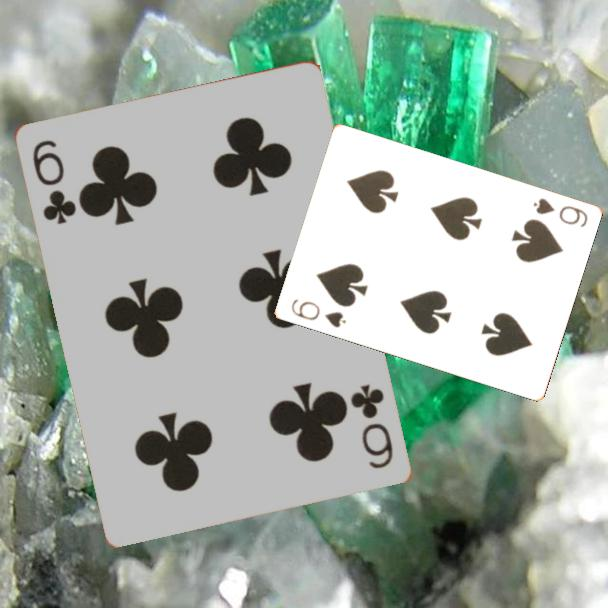c06: (29, 136, 80, 227), (347, 381, 397, 472)
s06: (287, 295, 349, 331), (529, 195, 590, 230)
